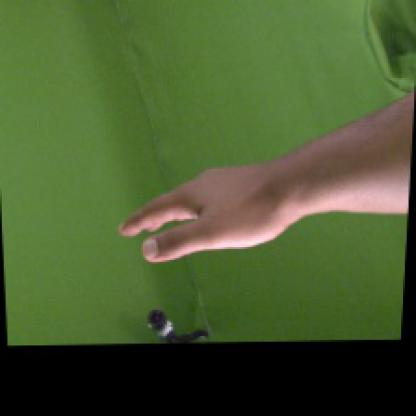Hand: (119, 166, 307, 262)
